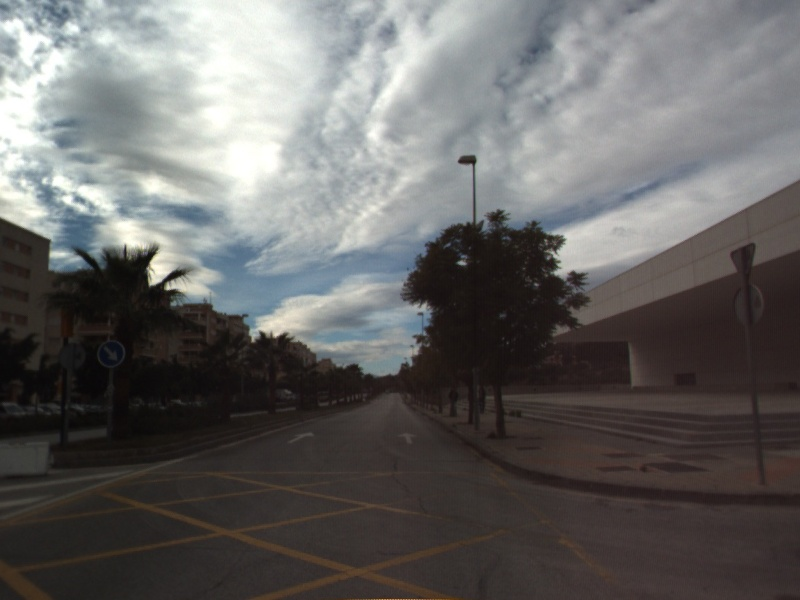STRAIGHT: (285, 430, 317, 445), (396, 430, 420, 446)
